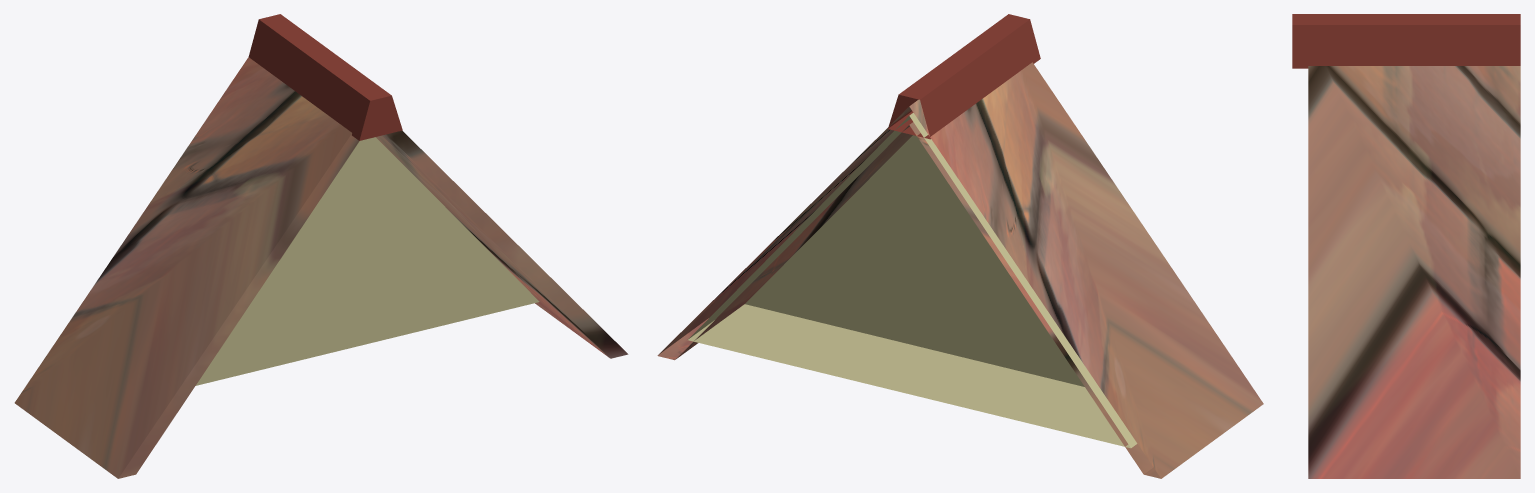
The model's file is roof_10x6x4_head.fbx.
3 renders of one model, left to right at view 1: azimuth 30°, elevation 25°; view 2: azimuth 150°, elevation 25°; view 3: azimuth 270°, elevation 25°, orthographic. The views are drawn at different scales.
Parts seen in each view (by area): view 1: roof_10x6x4_head; view 2: roof_10x6x4_head; view 3: roof_10x6x4_head.
Part boxes in pixels (<box>): roof_10x6x4_head: <box>14,14,628,478</box>; roof_10x6x4_head: <box>657,14,1263,478</box>; roof_10x6x4_head: <box>1292,14,1520,478</box>.
Size of the model in its own units: 1137 by 690 by 430.
